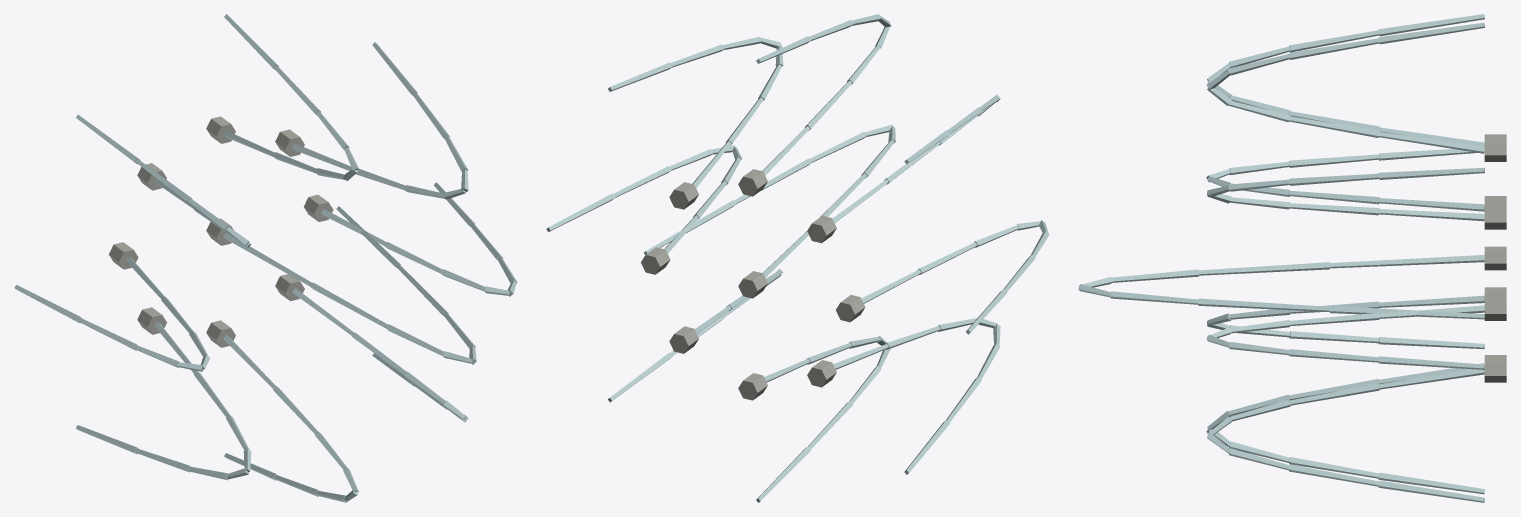
Rendered from fountain-jets.glb.
3 views of the same model, side by side, from view 1: azimuth 30°, elevation 25°; view 2: azimuth 150°, elevation 25°; view 3: azimuth 270°, elevation 25° (orthographic). The views are drawn at different scales.
Parts seen in each view (by area): view 1: stem; view 2: stem; view 3: stem.
Boxes of the visible parts, box(x1,y1,x2,y2) form: stem: box(14, 14, 517, 502); stem: box(546, 14, 1049, 502); stem: box(1078, 14, 1506, 502).
Bounding box in the file's own units: 2.83 × 2.83 × 2.33.
